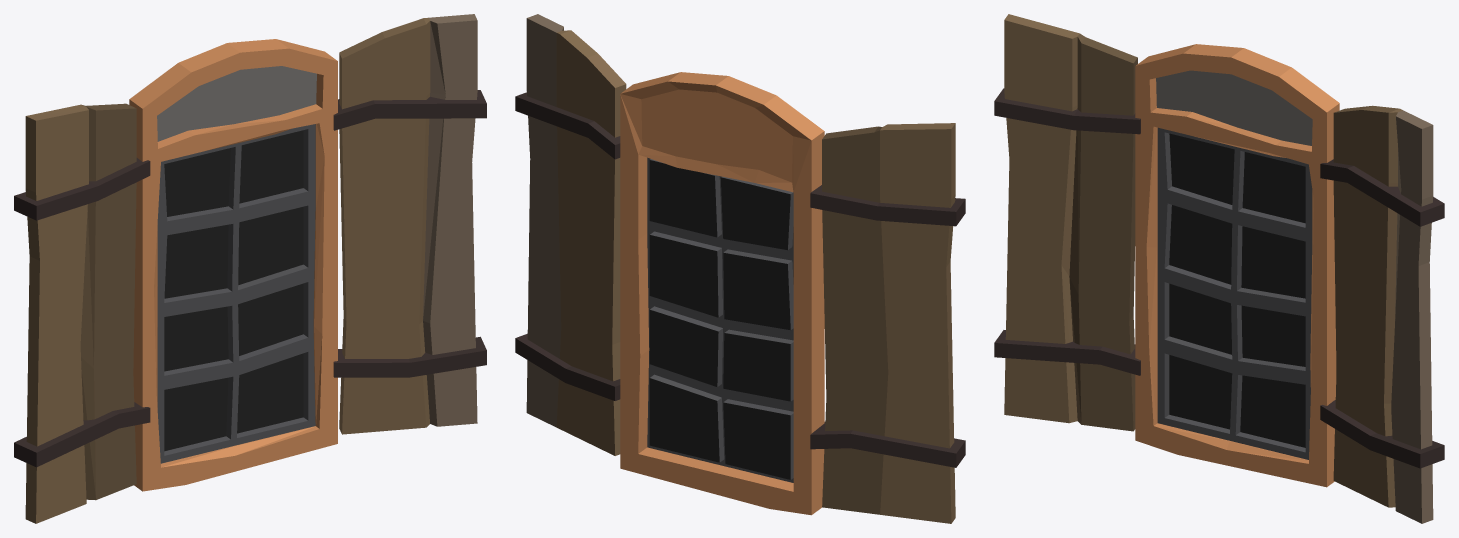
Rendered from SM_Prop_Window_03.glb.
The picture shows the model from 3 angles, left to right: view 1: azimuth 30°, elevation 25°; view 2: azimuth 150°, elevation 25°; view 3: azimuth 330°, elevation 25°; orthographic projection. The views are drawn at different scales.
Parts seen in each view (by area): view 1: SM_Prop_Window_03_part00; view 2: SM_Prop_Window_03_part00; view 3: SM_Prop_Window_03_part00.
Part boxes in pixels (x1,y1,x2,y2): SM_Prop_Window_03_part00: [14, 14, 486, 523]; SM_Prop_Window_03_part00: [515, 14, 965, 523]; SM_Prop_Window_03_part00: [994, 14, 1444, 523].
Size of the model in its own units: 1.92 by 1.68 by 0.3008.
Materials: 1 (1 with a texture image).
